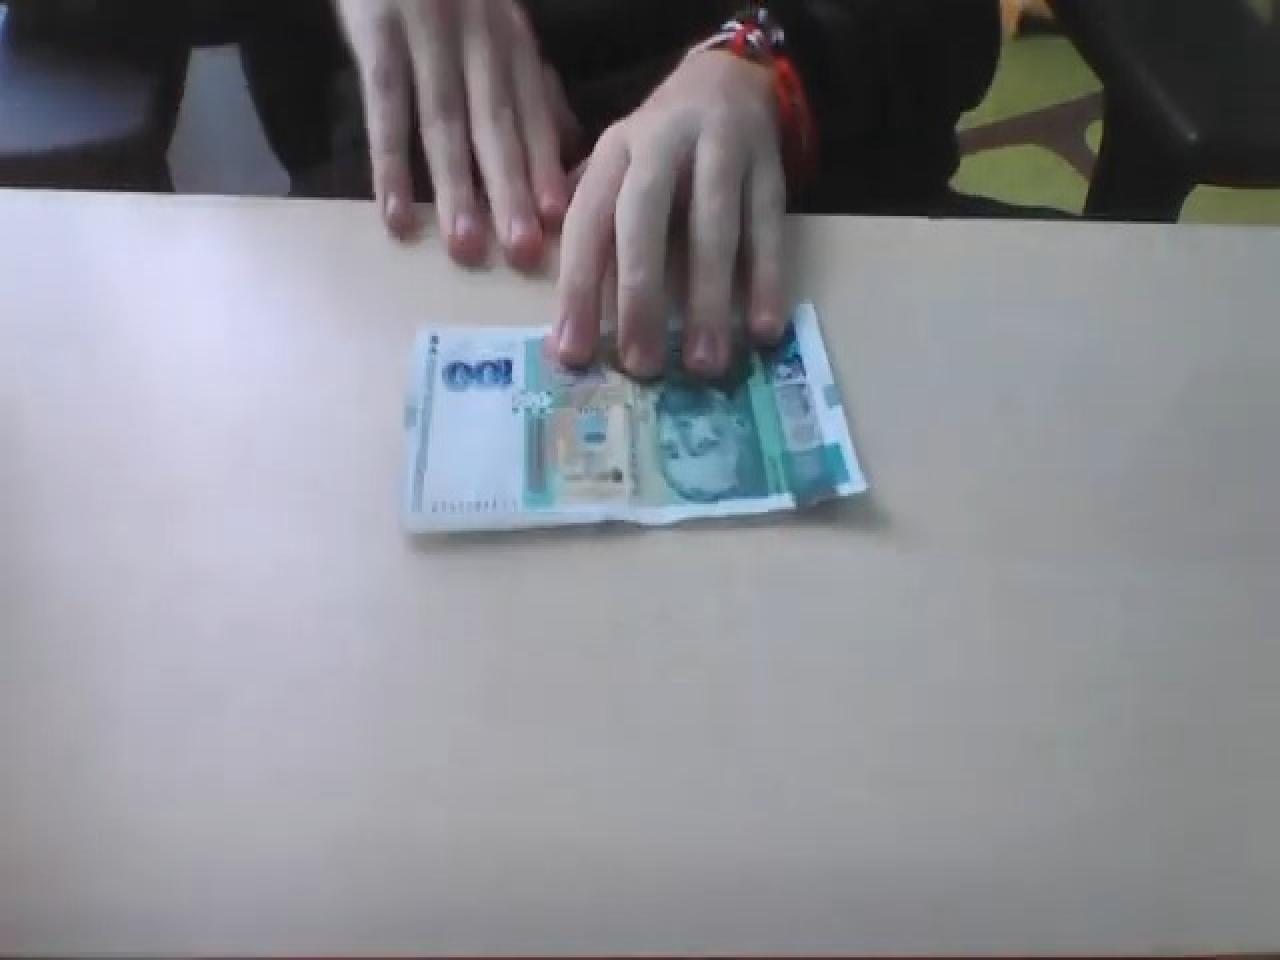100leva: (398, 296, 868, 536)
